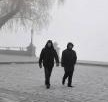person: (37, 38, 60, 90), (59, 40, 78, 89)
